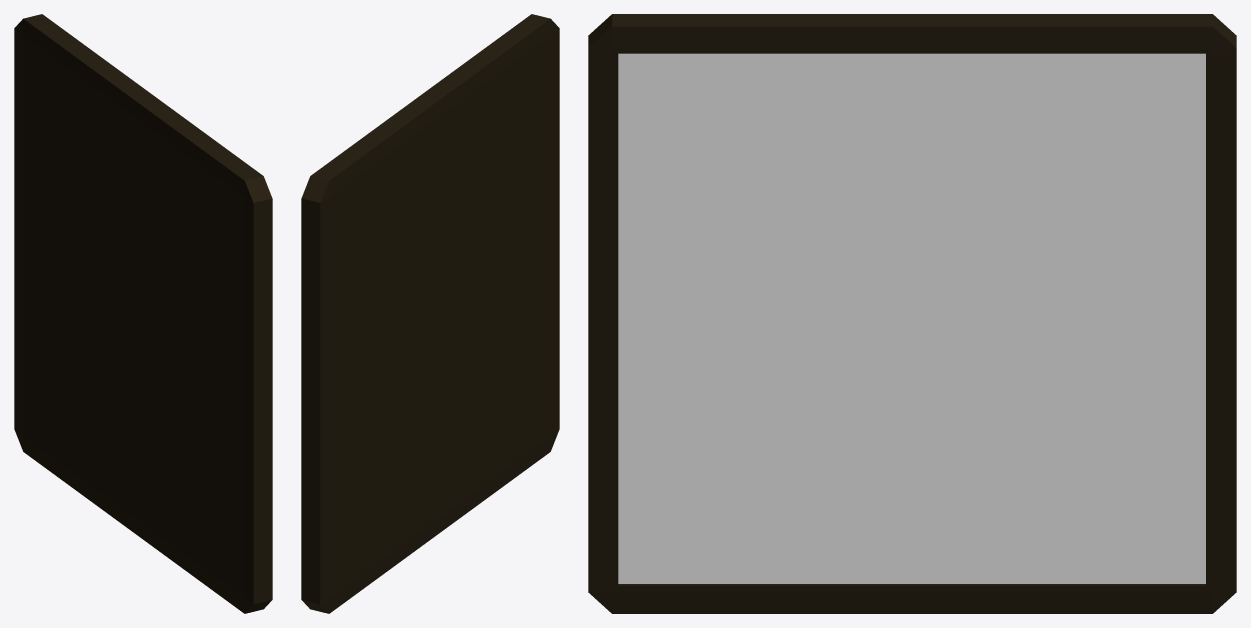
Rendered from Miror.fbx.
3 views of the same model, side by side, from view 1: azimuth 30°, elevation 25°; view 2: azimuth 150°, elevation 25°; view 3: azimuth 270°, elevation 25° (orthographic). The views are drawn at different scales.
Parts seen in each view (by area): view 1: Cube; view 2: Cube; view 3: Cube.001, Cube.
Boxes of the visible parts, left/top/right/bottom form: Cube: left=14, top=14, right=272, bottom=613; Cube: left=301, top=14, right=559, bottom=613; Cube.001: left=618, top=53, right=1205, bottom=583; Cube: left=588, top=14, right=1236, bottom=613.
Bounding box in the file's own units: 9.9 × 200 × 200.
